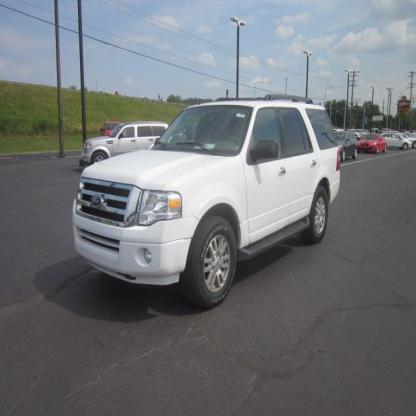Vehicle: (74, 101, 341, 312)
